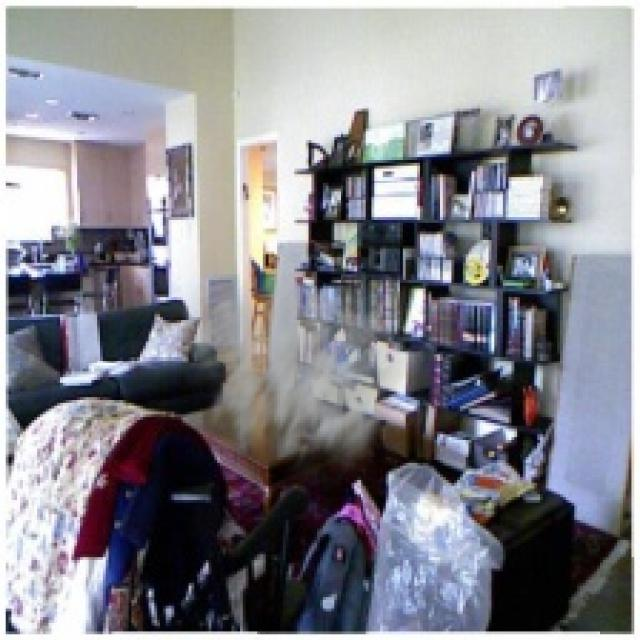smoke: (174, 254, 423, 503)
